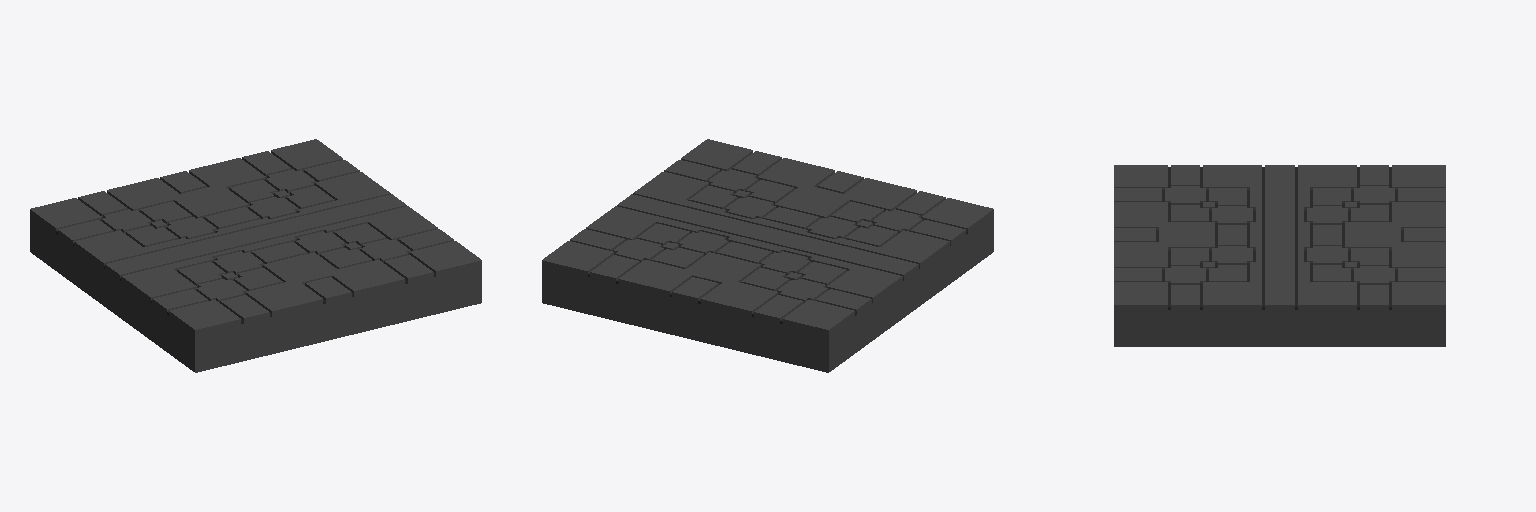
The picture shows the model from 3 angles: view 1: azimuth 30°, elevation 25°; view 2: azimuth 150°, elevation 25°; view 3: azimuth 270°, elevation 25°; orthographic projection.
Parts seen in each view (by area): view 1: Floor4; view 2: Floor4; view 3: Floor4.
Part boxes in pixels (x1,y1,x2,y2): Floor4: (30, 139, 481, 372); Floor4: (542, 139, 993, 372); Floor4: (1114, 165, 1445, 346).
Bounding box in the file's own units: 7.06 × 1.01 × 7.06.
Materials: 1 (1 with a texture image).